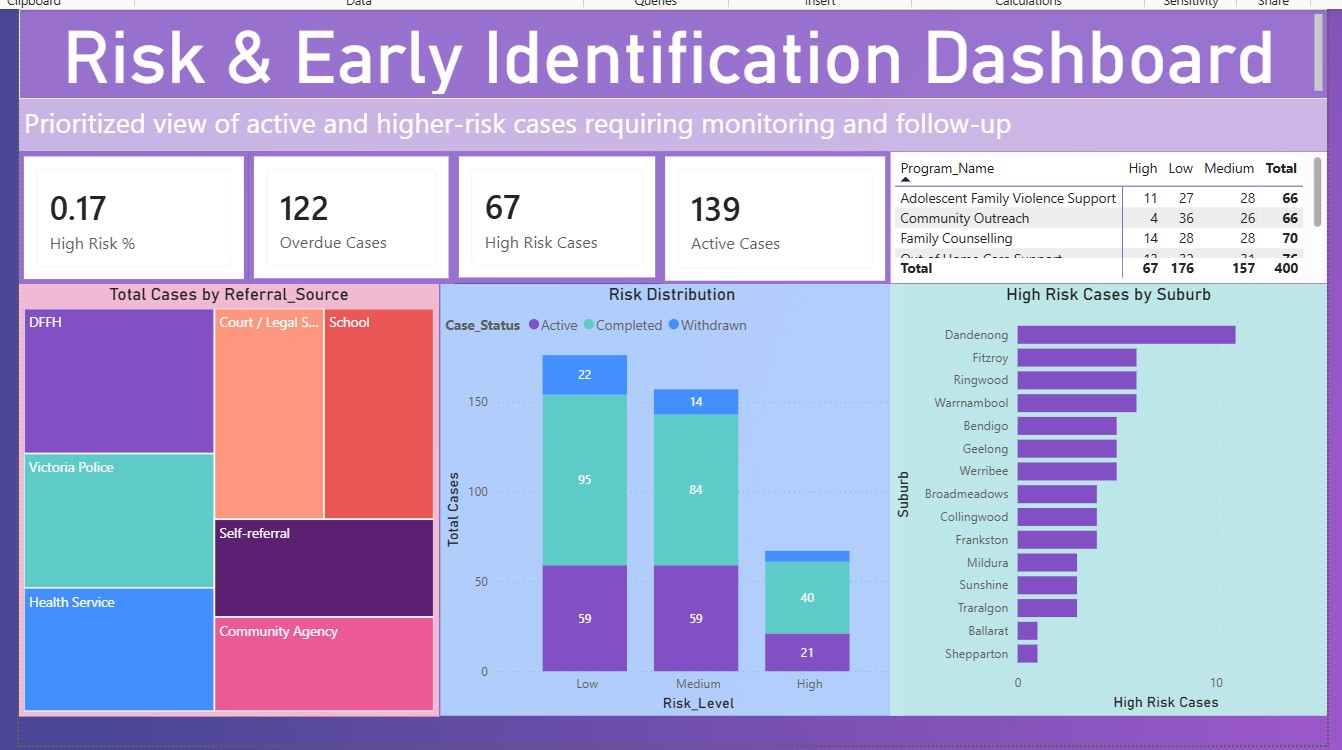

The page's visual inventory and layout, read from the dashboard file:
{"tool":"powerbi","page":{"name":"Risk and Early Identification","canvas":[1280,720],"ordinal":1},"visuals":[{"type":"cardVisual","fields":{"Data":["Victoria_Service_Data.High Risk %"]},"box":[0,140,225,130],"z":0},{"type":"cardVisual","fields":{"Data":["Victoria_Service_Data.High Risk Cases"]},"box":[425,140,202.5,128.8],"z":1000},{"type":"cardVisual","fields":{"Data":["Victoria_Service_Data.Active Cases"]},"box":[627.5,140,225,131.2],"z":2000},{"type":"cardVisual","fields":{"Data":["Victoria_Service_Data.Overdue Cases"]},"box":[225,139.4,200.5,129.6],"z":3000},{"type":"columnChart","title":" Risk Distribution","fields":{"Category":["Victoria_Service_Data.Risk_Level"],"Y":["Victoria_Service_Data.Total Cases"],"Series":["Victoria_Service_Data.Case_Status"]},"box":[411.1,272.2,440.7,422.2],"z":4000},{"type":"treemap","title":"Referral Demand Sources","fields":{"Group":["Victoria_Service_Data.Referral_Source"],"Values":["Victoria_Service_Data.Total Cases"]},"box":[0,272.2,411.1,422.2],"z":5000},{"type":"pivotTable","fields":{"Rows":["Victoria_Service_Data.Program_Name"],"Columns":["Victoria_Service_Data.Risk_Level"],"Values":["Victoria_Service_Data.Total Cases"]},"box":[852.5,140,427.5,128.8],"z":6000},{"type":"clusteredBarChart","title":"Suburbs Requiring Priority Attention","fields":{"Category":["Victoria_Service_Data.Suburb"],"Y":["Victoria_Service_Data.High Risk Cases"]},"box":[851.9,268.5,427.8,425.9],"z":7000},{"type":"textbox","box":[0,0,1280.3,88],"z":8000},{"type":"textbox","box":[0,88,1280.3,51.4],"z":9000}]}

Visuals, with their boxes in screenshot pixels (x1, y1, x2, y2):
cardVisual - Victoria_Service_Data.High Risk %: [10,148,242,281]
cardVisual - Victoria_Service_Data.High Risk Cases: [448,148,656,280]
cardVisual - Victoria_Service_Data.Active Cases: [656,148,888,283]
cardVisual - Victoria_Service_Data.Overdue Cases: [242,147,448,280]
" Risk Distribution" columnChart: [434,284,887,718]
"Referral Demand Sources" treemap: [10,284,434,718]
pivotTable - Victoria_Service_Data.Program_Name x Victoria_Service_Data.Risk_Level: [888,148,1328,280]
"Suburbs Requiring Priority Attention" clusteredBarChart: [887,280,1327,718]
textbox: [10,3,1328,94]
textbox: [10,94,1328,147]
